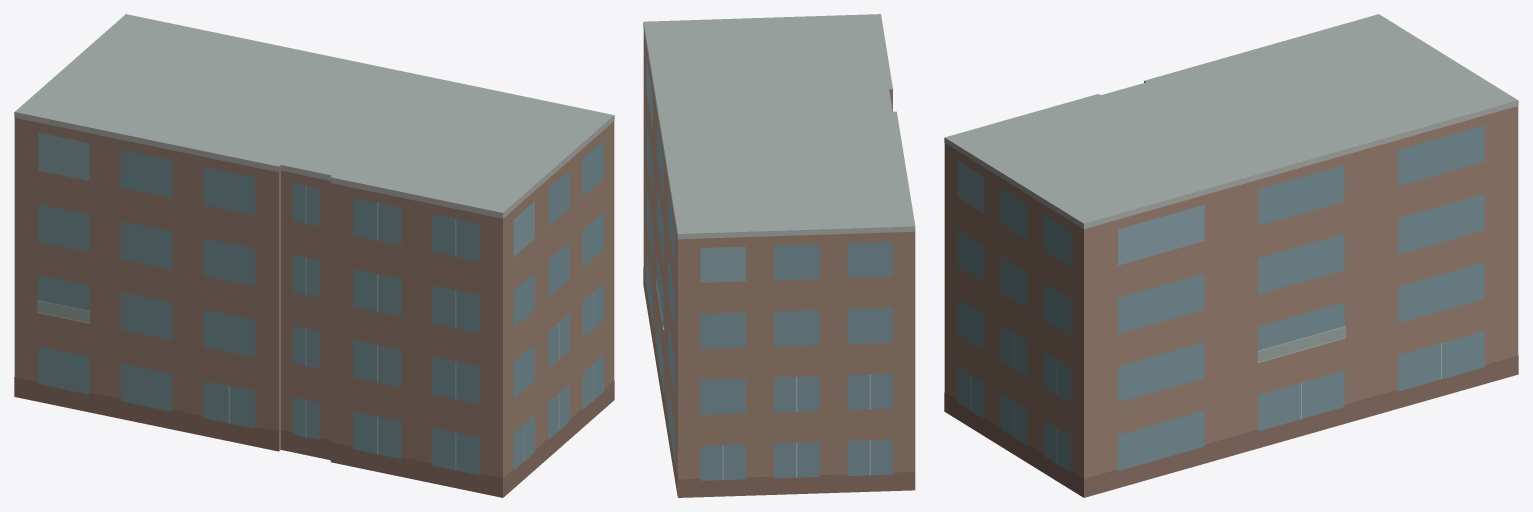
Rendered from survey-upis-32480532.glb.
The picture shows the model from 3 angles, left to right: view 1: azimuth 30°, elevation 25°; view 2: azimuth 150°, elevation 25°; view 3: azimuth 270°, elevation 25°; orthographic projection. The views are drawn at different scales.
Parts seen in each view (by area): view 1: survey-upis-32480532.tmp; view 2: survey-upis-32480532.tmp; view 3: survey-upis-32480532.tmp.
Part boxes in pixels (x1,y1,x2,y2): survey-upis-32480532.tmp: [14, 14, 614, 497]; survey-upis-32480532.tmp: [643, 14, 915, 497]; survey-upis-32480532.tmp: [944, 14, 1518, 497].
Bounding box in the file's own units: 20.03 × 12.2 × 23.16.
